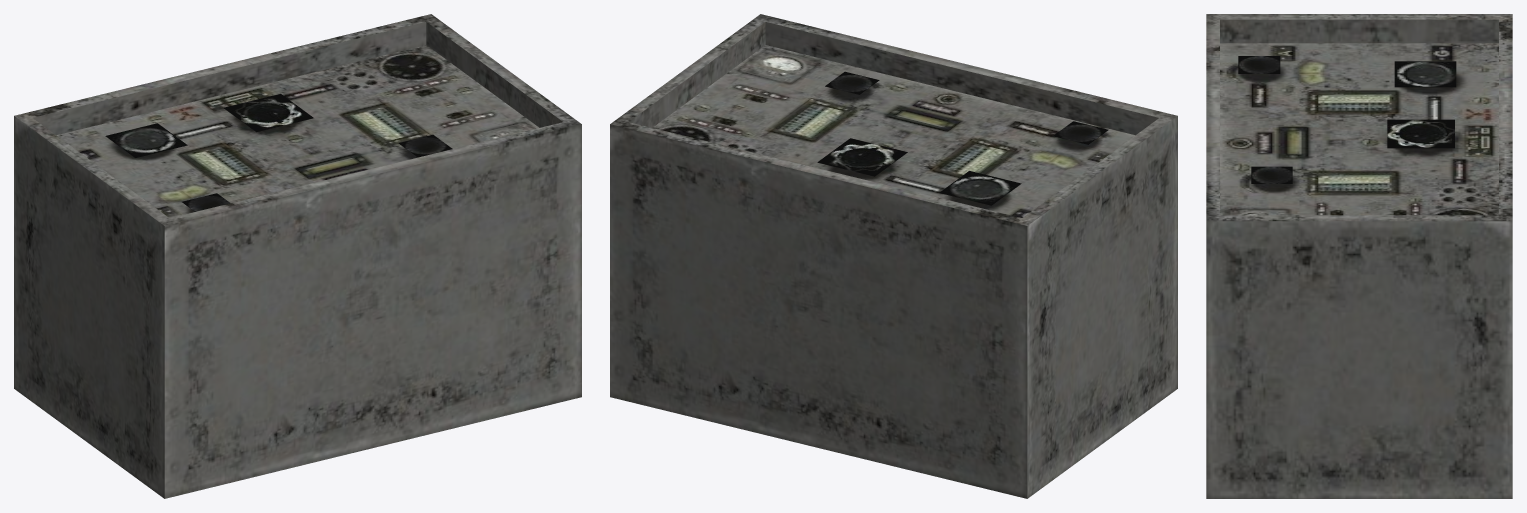
Rendered from military_german_fieldradio_grey_obj.glb.
3 views of the same model, side by side, from view 1: azimuth 30°, elevation 25°; view 2: azimuth 150°, elevation 25°; view 3: azimuth 270°, elevation 25° (orthographic).
Bounding box in the file's own units: 24.43 × 15.27 × 15.27.
Materials: 2 (2 with a texture image).
